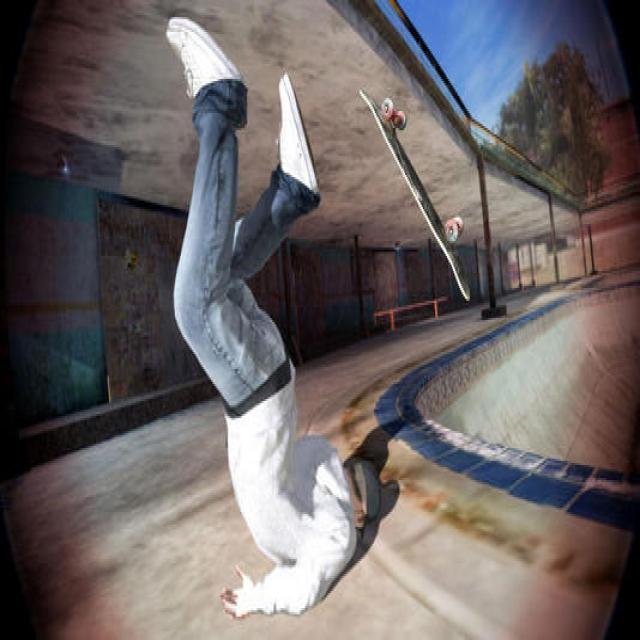down: (151, 6, 410, 606)
